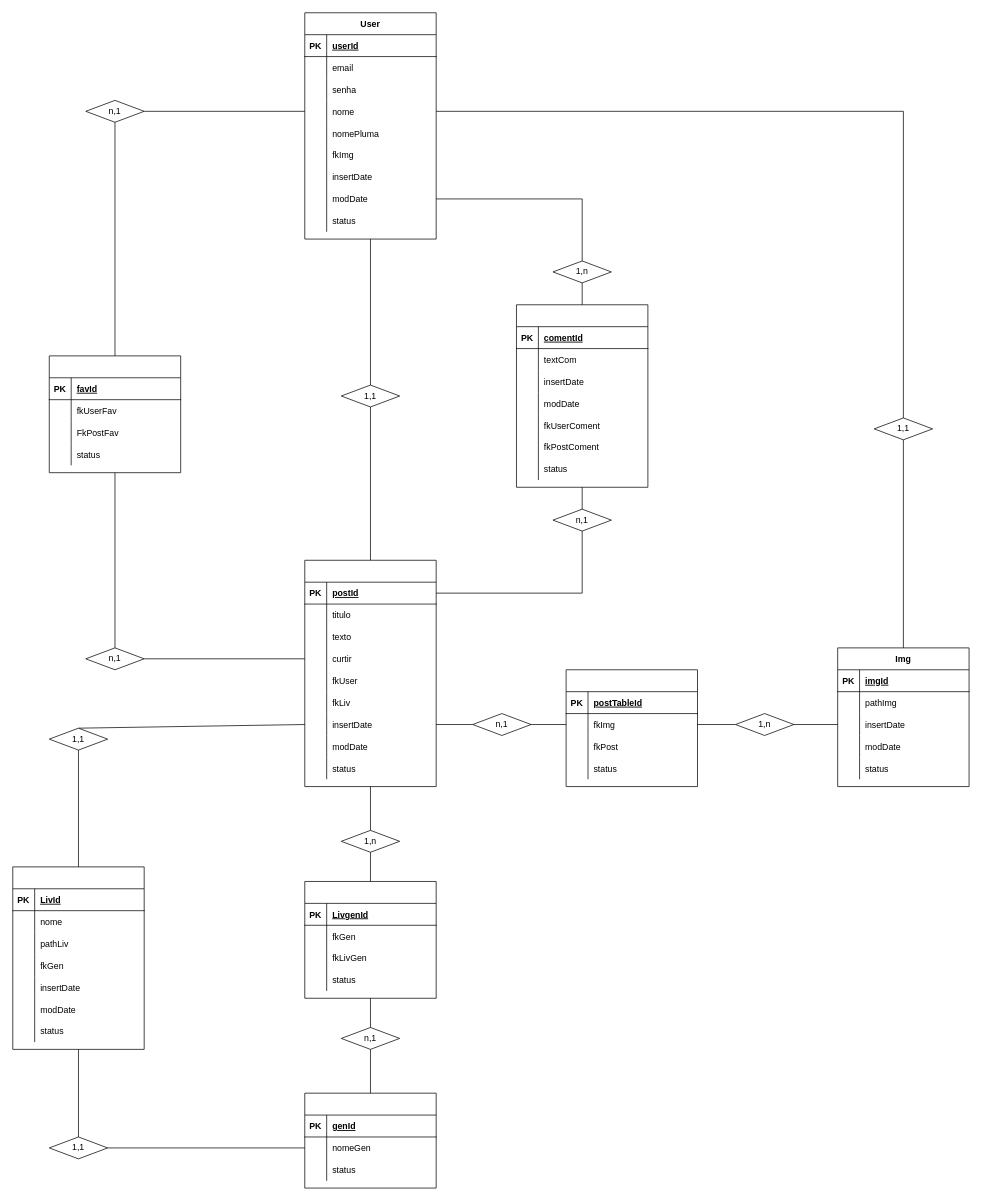
Image size: 982x1201. Some labels were removed from this diagram. Here are the shapes that lost their labels. From the top down, the box of each, then its label:
(49, 355, 181, 473): favorito
(516, 304, 648, 487): comentario
(304, 560, 436, 787): postagem
(565, 669, 698, 787): postImg
(12, 866, 144, 1049): Livro
(304, 881, 436, 998): livro_genero
(304, 1092, 436, 1188): Gênero
